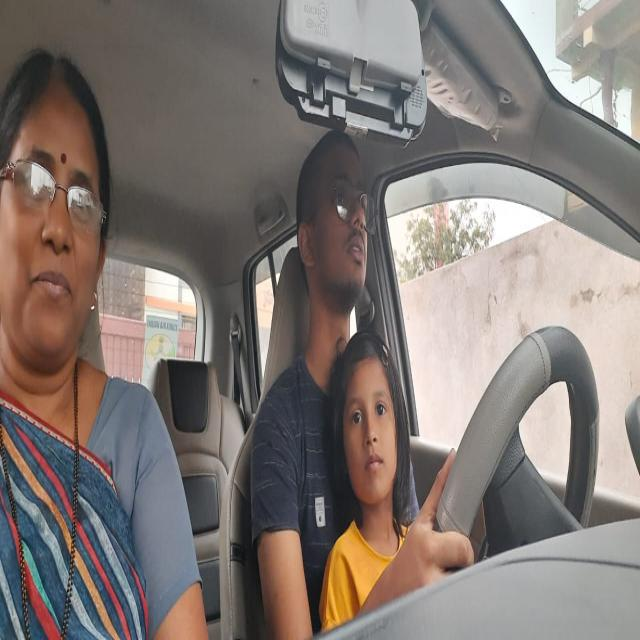child: (331, 332, 409, 539)
person: (0, 48, 112, 363), (296, 124, 378, 321)
